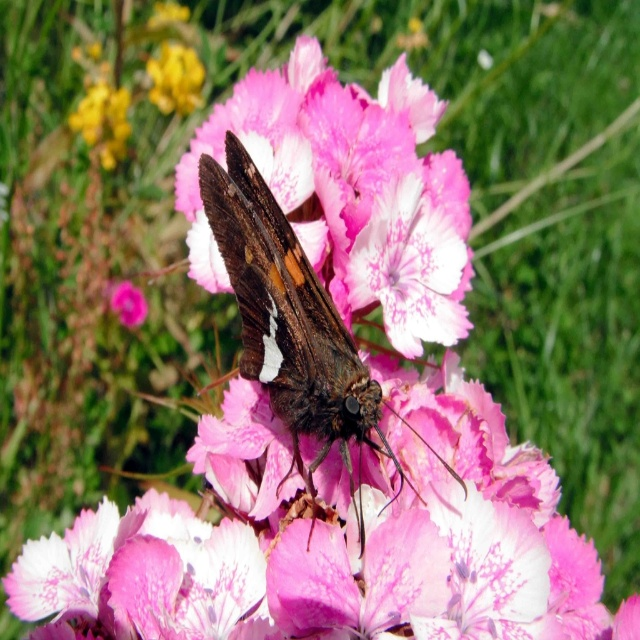Butterfly: (191, 90, 453, 573)
